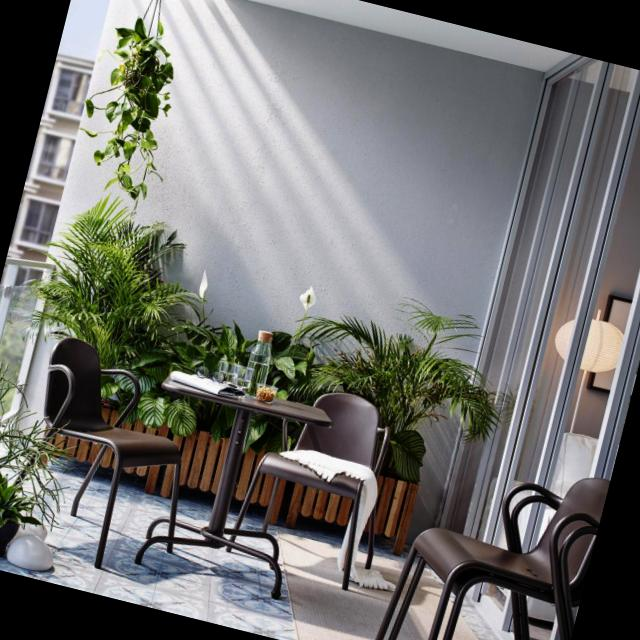obstacle: (0, 328, 219, 588), (367, 428, 611, 640), (218, 369, 412, 600)
